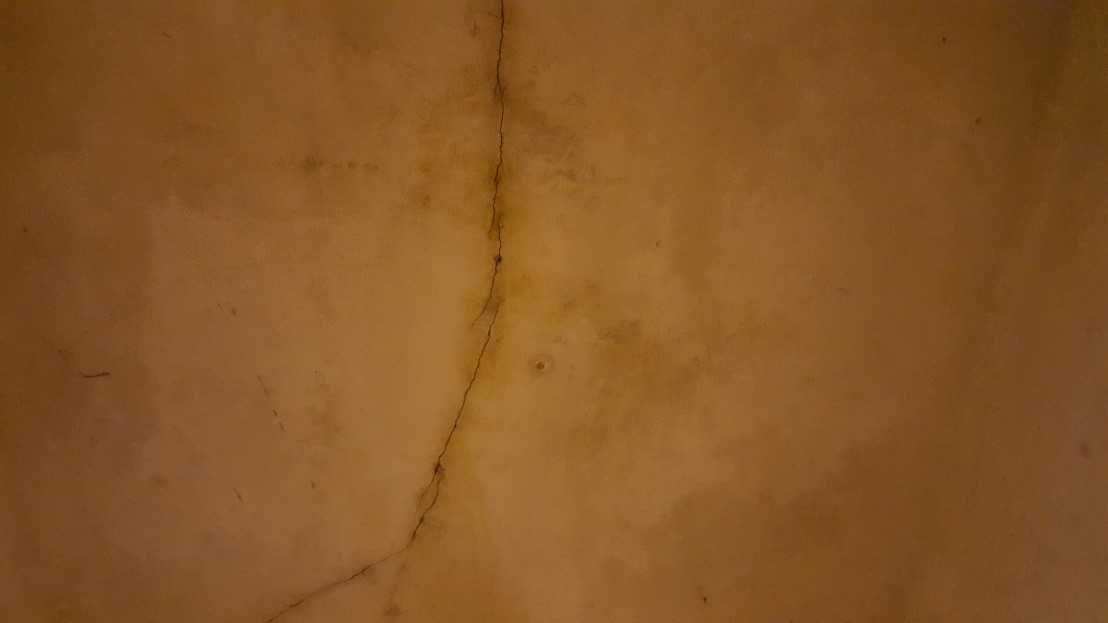Crack: (400, 0, 516, 493), (263, 468, 450, 623)
